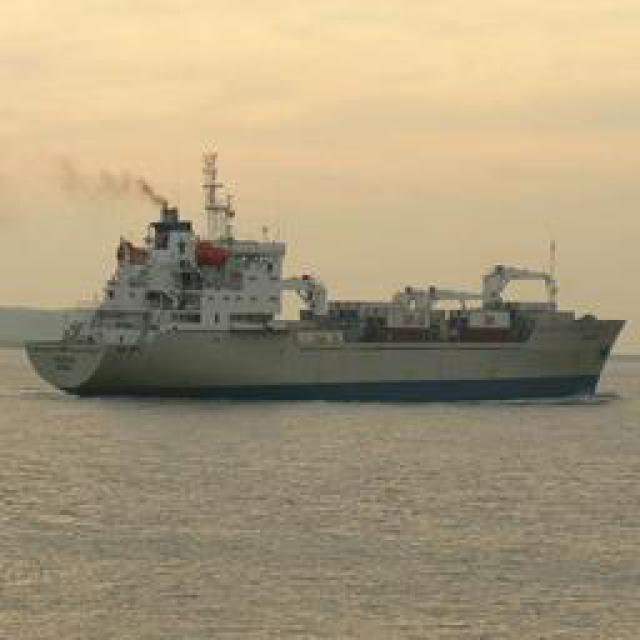Ship: (31, 156, 629, 404)
